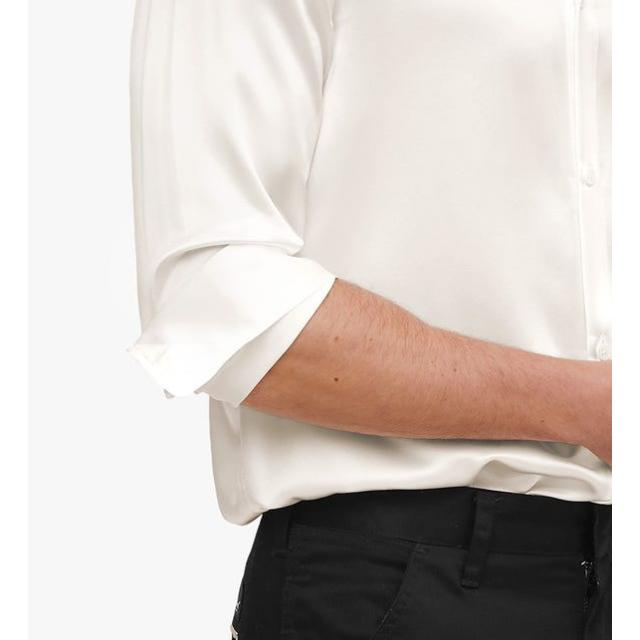silk: (130, 1, 612, 502)
